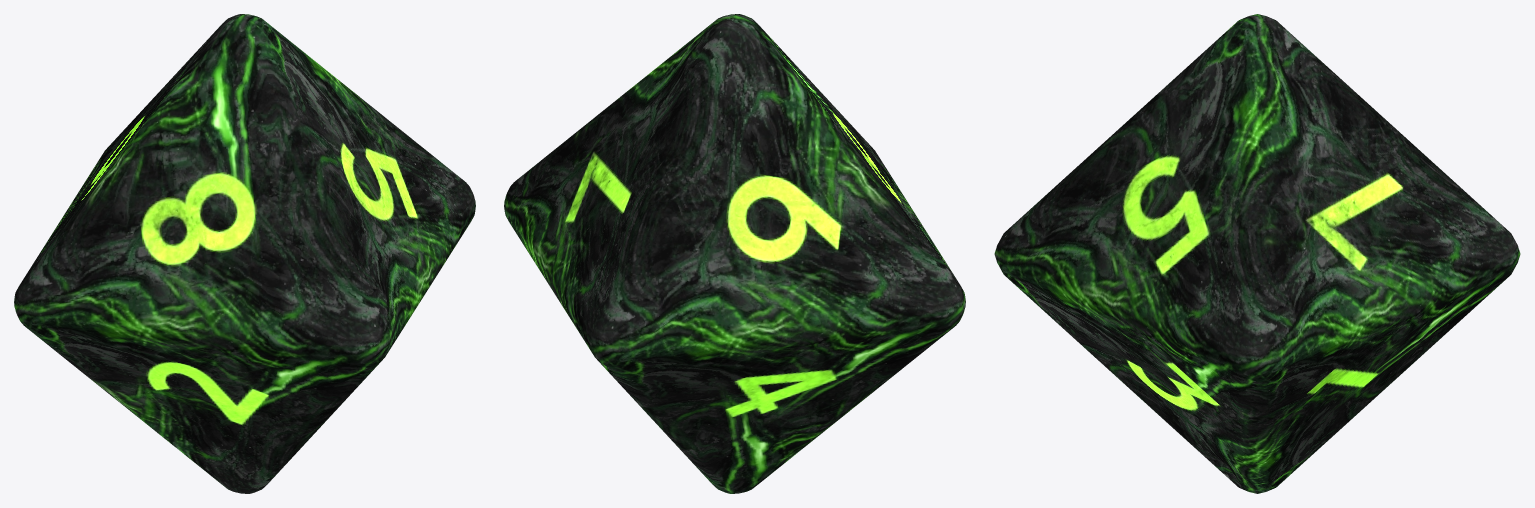
The picture shows the model from 3 angles, left to right: view 1: azimuth 30°, elevation 25°; view 2: azimuth 150°, elevation 25°; view 3: azimuth 270°, elevation 25°; orthographic projection.
Parts seen in each view (by area): view 1: dice_8; view 2: dice_8; view 3: dice_8.
Part boxes in pixels (x1=…): dice_8: x1=14, y1=14, x2=475, y2=493; dice_8: x1=504, y1=14, x2=965, y2=493; dice_8: x1=994, y1=14, x2=1520, y2=493.
Size of the model in its own units: 185 by 185 by 185.
Materials: 1 (1 with a texture image).
